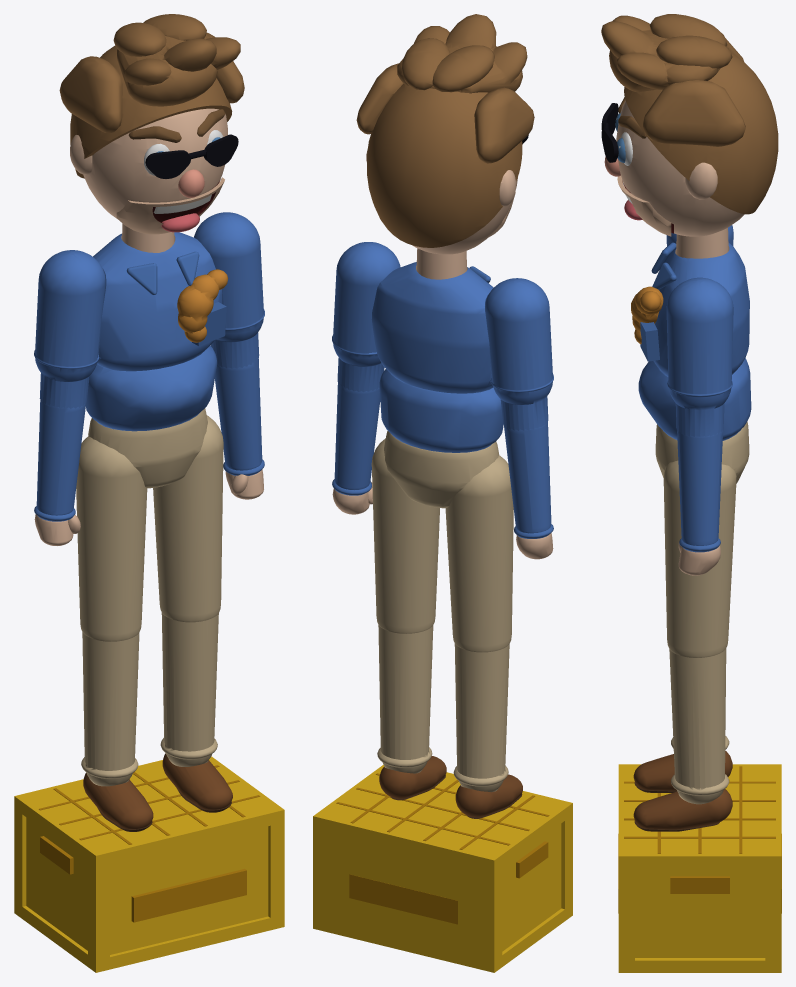
Rendered from fb_kaas_croissant.glb.
3 views of the same model, side by side, from view 1: azimuth 30°, elevation 25°; view 2: azimuth 150°, elevation 25°; view 3: azimuth 270°, elevation 25° (orthographic). The views are drawn at different scales.
Visible parts, largest first — view 1: creature; view 2: creature; view 3: creature.
Boxes of the visible parts, <box> form: creature: <box>14,14,284,972</box>; creature: <box>313,14,572,972</box>; creature: <box>601,14,781,972</box>.
Bounding box in the file's own units: 0.2593 × 1 × 0.1807.
